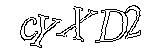2: (125, 5, 140, 38)
D: (95, 9, 127, 42)
X: (56, 6, 97, 41)
Y: (30, 14, 61, 47)
c: (20, 17, 37, 40)
